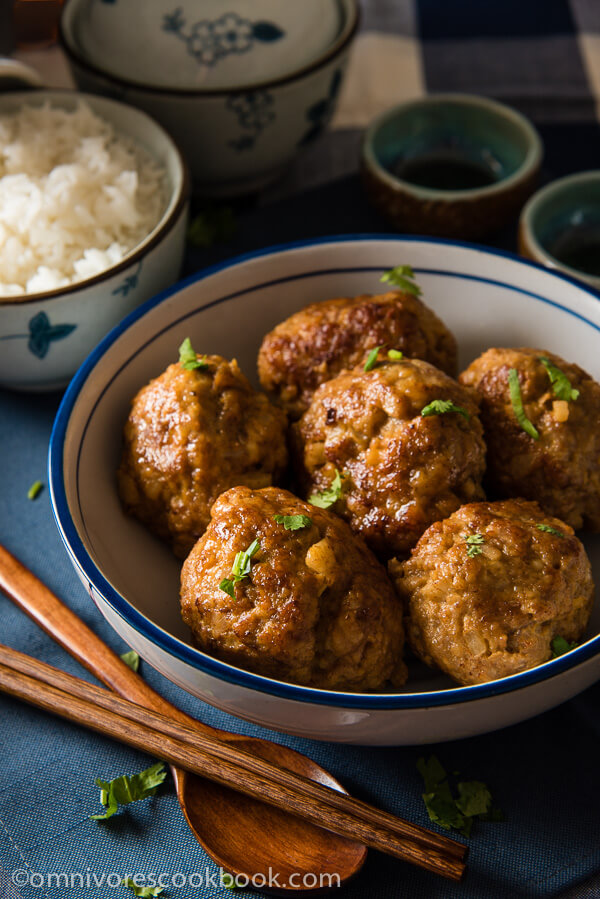meatballs: (132, 287, 600, 686)
plain rice: (1, 91, 127, 272)
